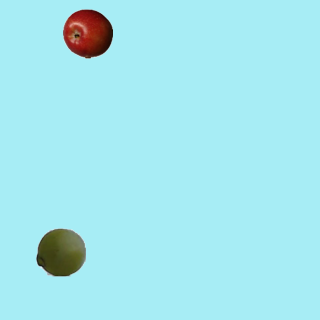Apple Braeburn: (62, 8, 112, 58)
Grape White 4: (35, 226, 85, 276)
